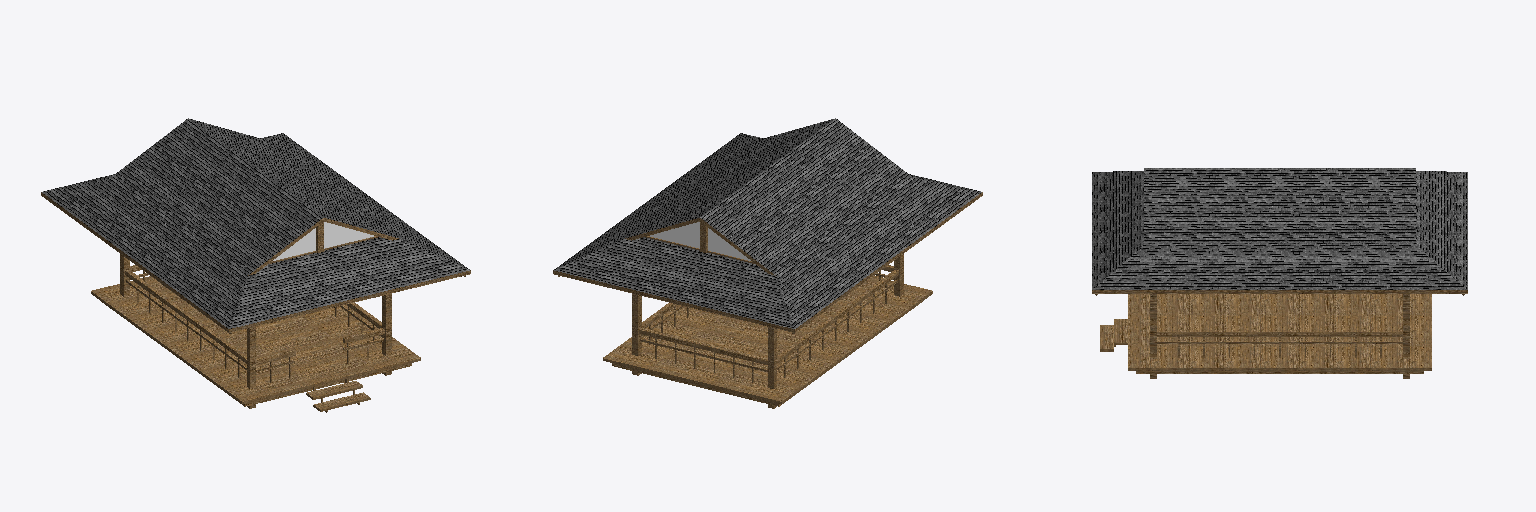
3 renders of one model, left to right at view 1: azimuth 30°, elevation 25°; view 2: azimuth 150°, elevation 25°; view 3: azimuth 270°, elevation 25°, orthographic.
Parts seen in each view (by area): view 1: Mesh1 Group2 Group1 Model, Mesh3 Group4 Group1 Model, Mesh77 Group82 Group81 Group1 Model, Mesh28 Group20 Group1 Model, Mesh78 Group83 Group81 Group1 Model, Mesh110 ___1_1 Group1 Model, Mesh111 ___1_2 Group1 Model, Mesh109 Group114 Group1 Model; view 2: Mesh1 Group2 Group1 Model, Mesh3 Group4 Group1 Model, Mesh77 Group82 Group81 Group1 Model, Mesh27 Group20 Group1 Model, Mesh78 Group83 Group81 Group1 Model, Mesh113 ___1_4 Group1 Model, Mesh112 ___1_3 Group1 Model, Mesh109 Group114 Group1 Model; view 3: Mesh1 Group2 Group1 Model, Mesh3 Group4 Group1 Model, Mesh77 Group82 Group81 Group1 Model, Mesh109 Group114 Group1 Model, Mesh78 Group83 Group81 Group1 Model.
Part boxes in pixels (bbox=[...]): Mesh1 Group2 Group1 Model: bbox=[41, 118, 470, 332]; Mesh3 Group4 Group1 Model: bbox=[91, 276, 420, 403]; Mesh77 Group82 Group81 Group1 Model: bbox=[125, 265, 384, 364]; Mesh28 Group20 Group1 Model: bbox=[273, 222, 373, 260]; Mesh78 Group83 Group81 Group1 Model: bbox=[126, 273, 383, 371]; Mesh110 ___1_1 Group1 Model: bbox=[382, 294, 391, 375]; Mesh111 ___1_2 Group1 Model: bbox=[247, 327, 255, 408]; Mesh109 Group114 Group1 Model: bbox=[101, 301, 411, 406]; Mesh1 Group2 Group1 Model: bbox=[553, 118, 982, 332]; Mesh3 Group4 Group1 Model: bbox=[603, 276, 932, 403]; Mesh77 Group82 Group81 Group1 Model: bbox=[639, 265, 898, 364]; Mesh27 Group20 Group1 Model: bbox=[650, 222, 750, 260]; Mesh78 Group83 Group81 Group1 Model: bbox=[640, 273, 897, 371]; Mesh113 ___1_4 Group1 Model: bbox=[632, 294, 641, 375]; Mesh112 ___1_3 Group1 Model: bbox=[768, 327, 776, 408]; Mesh109 Group114 Group1 Model: bbox=[612, 301, 922, 406]; Mesh1 Group2 Group1 Model: bbox=[1092, 168, 1467, 293]; Mesh3 Group4 Group1 Model: bbox=[1128, 294, 1431, 370]; Mesh77 Group82 Group81 Group1 Model: bbox=[1157, 330, 1402, 336]; Mesh109 Group114 Group1 Model: bbox=[1136, 371, 1423, 373]; Mesh78 Group83 Group81 Group1 Model: bbox=[1157, 341, 1402, 343].
Size of the model in its own units: 5800 by 4040 by 7800.
4 materials, 2 textured.